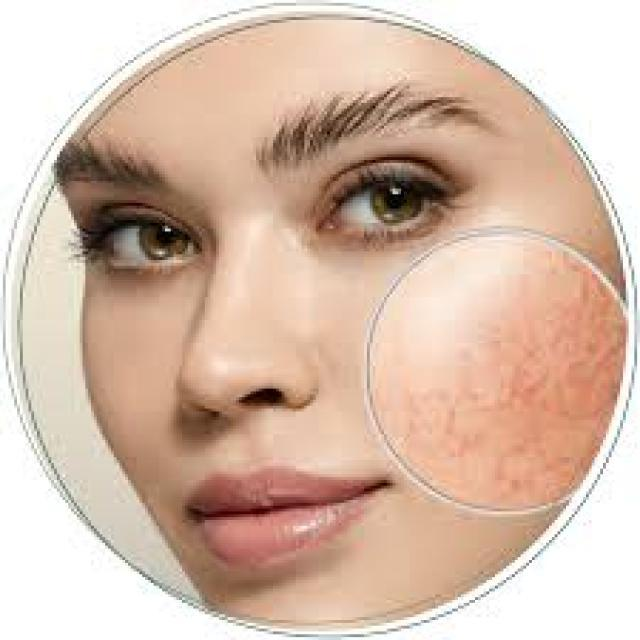Rosacea: (392, 253, 628, 501)
